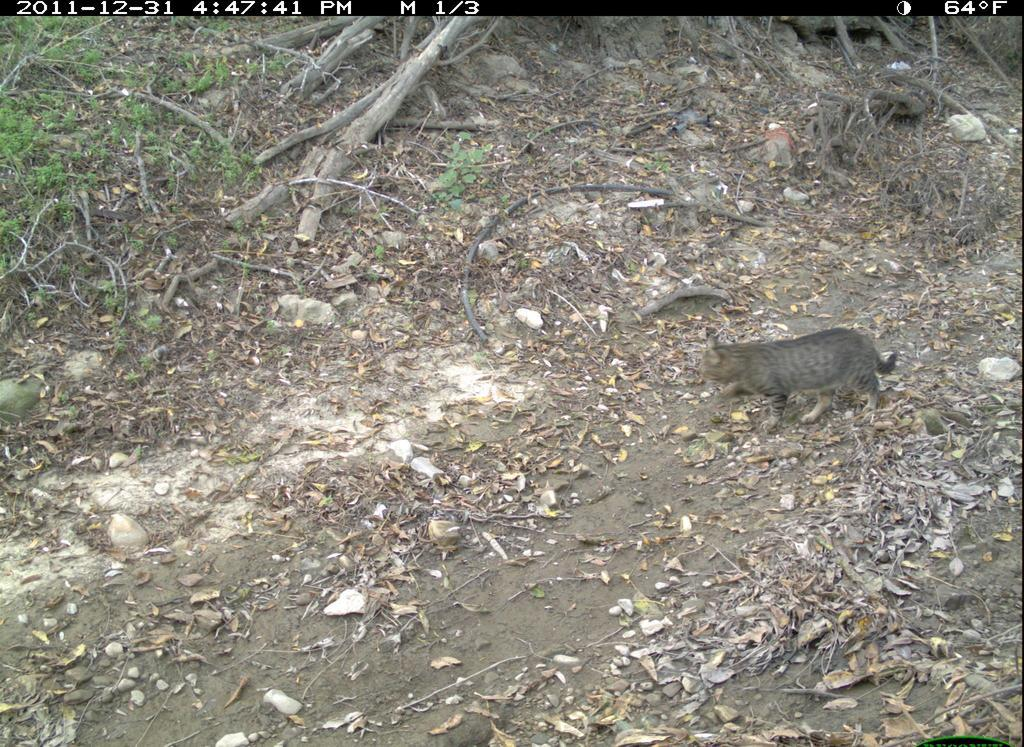cat: (693, 322, 930, 446)
